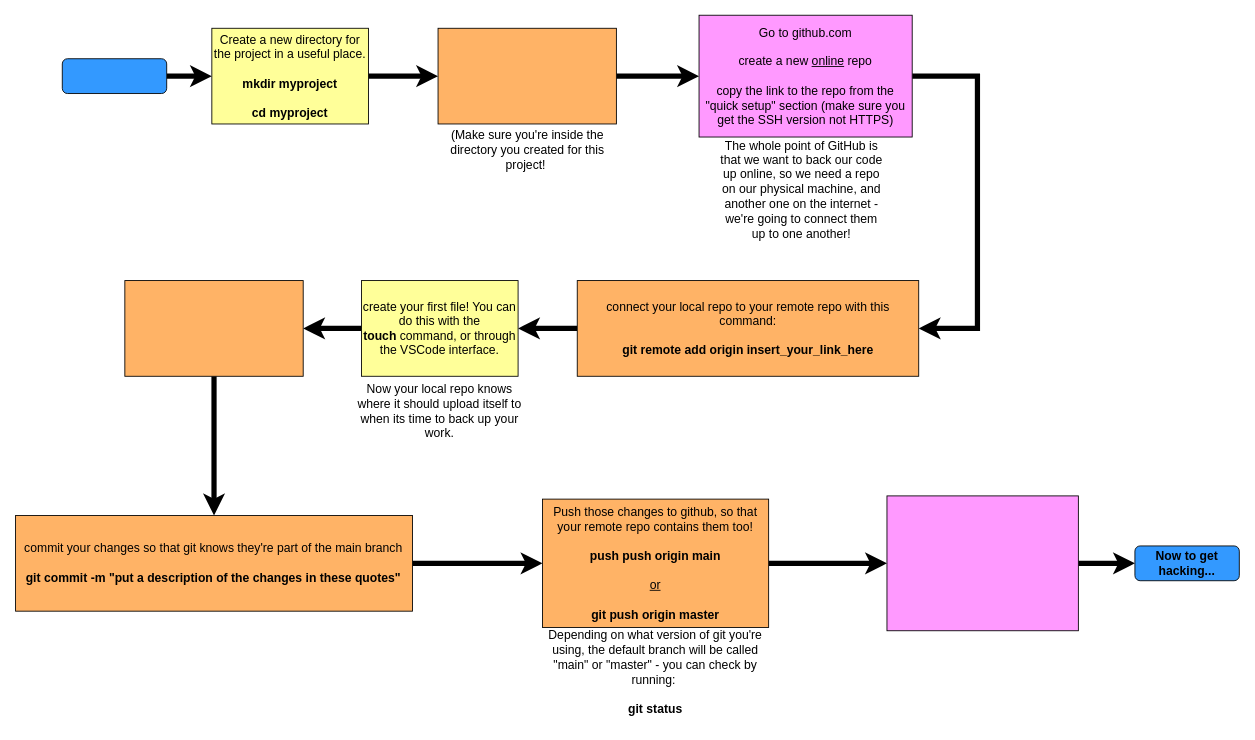
Image size: 1255x740. Some labels were removed from this diagram. Each missing label, with the centre of its shape:
Check it out! Your file has been pushed to github!: the point at 982,563
initialise the directory as a local git repo git init: the point at 526,75
stage your changes so that git knows to keep track of them git add .: the point at 213,328
Starting a new project: the point at 114,76
